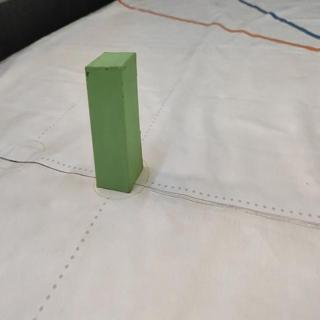greenbox: (85, 51, 143, 193)
